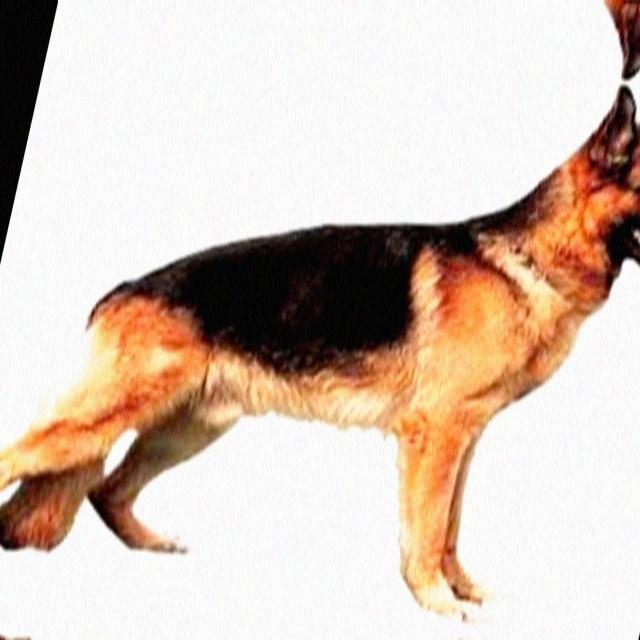dog: (486, 74, 640, 308), (535, 0, 640, 91)
